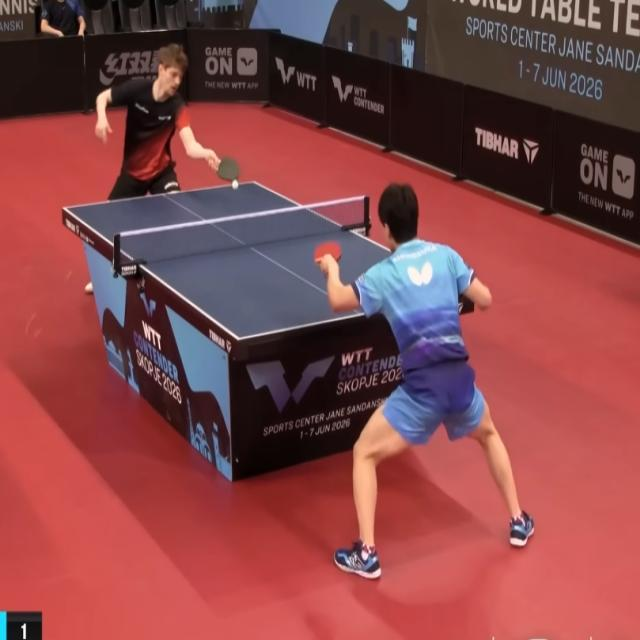TT Net: (112, 191, 375, 272)
TT Racket: (309, 237, 345, 270), (212, 152, 245, 186)
TT Table: (63, 181, 473, 340)
